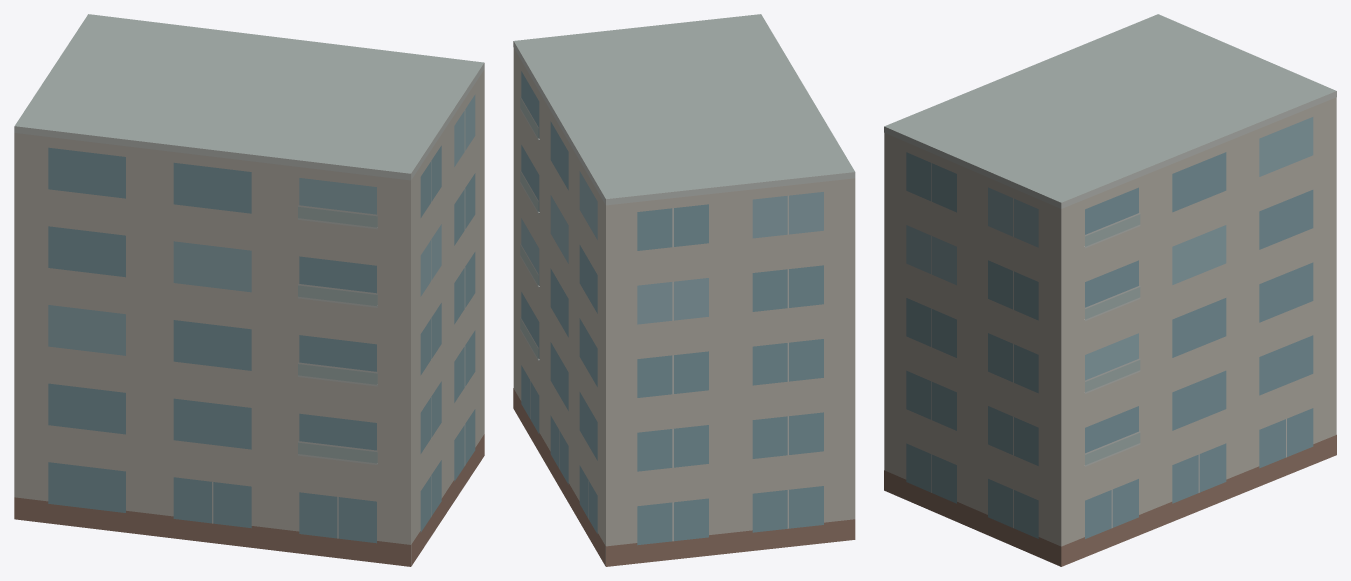
Rendered from survey-upis-32882484.glb.
3 views of the same model, side by side, from view 1: azimuth 30°, elevation 25°; view 2: azimuth 150°, elevation 25°; view 3: azimuth 270°, elevation 25° (orthographic). The views are drawn at different scales.
Parts seen in each view (by area): view 1: survey-upis-32882484.tmp; view 2: survey-upis-32882484.tmp; view 3: survey-upis-32882484.tmp.
Part boxes in pixels (x1,y1,x2,y2): survey-upis-32882484.tmp: (14,14,484,566); survey-upis-32882484.tmp: (513,14,855,566); survey-upis-32882484.tmp: (884,14,1336,566).
Bounding box in the file's own units: 16.02 × 14.4 × 16.23.
